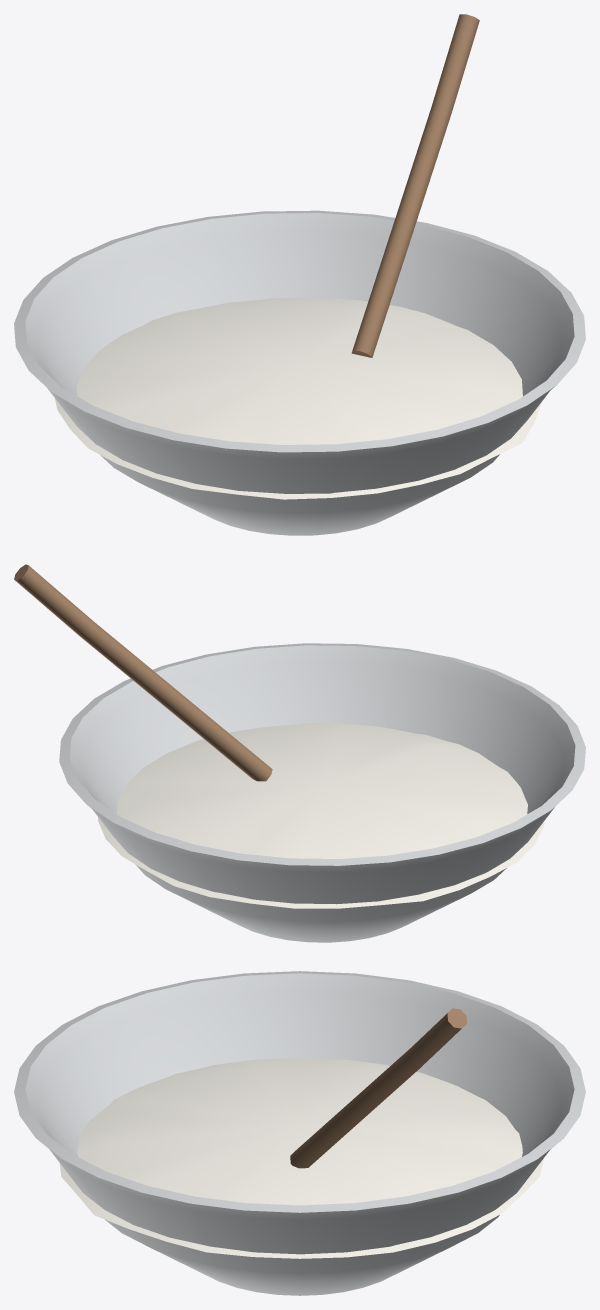
The model's file is BatterBowl.fbx.
3 views of the same model, one above another, from view 1: azimuth 30°, elevation 25°; view 2: azimuth 150°, elevation 25°; view 3: azimuth 270°, elevation 25° (orthographic). The views are drawn at different scales.
Visible parts, largest first — view 1: BatterBowl; view 2: BatterBowl; view 3: BatterBowl.
Boxes of the visible parts, x1=… form: BatterBowl: x1=14, y1=14, x2=585, y2=535; BatterBowl: x1=14, y1=564, x2=585, y2=942; BatterBowl: x1=14, y1=971, x2=585, y2=1295.
Size of the model in its own units: 0.4066 by 0.2757 by 0.4.
